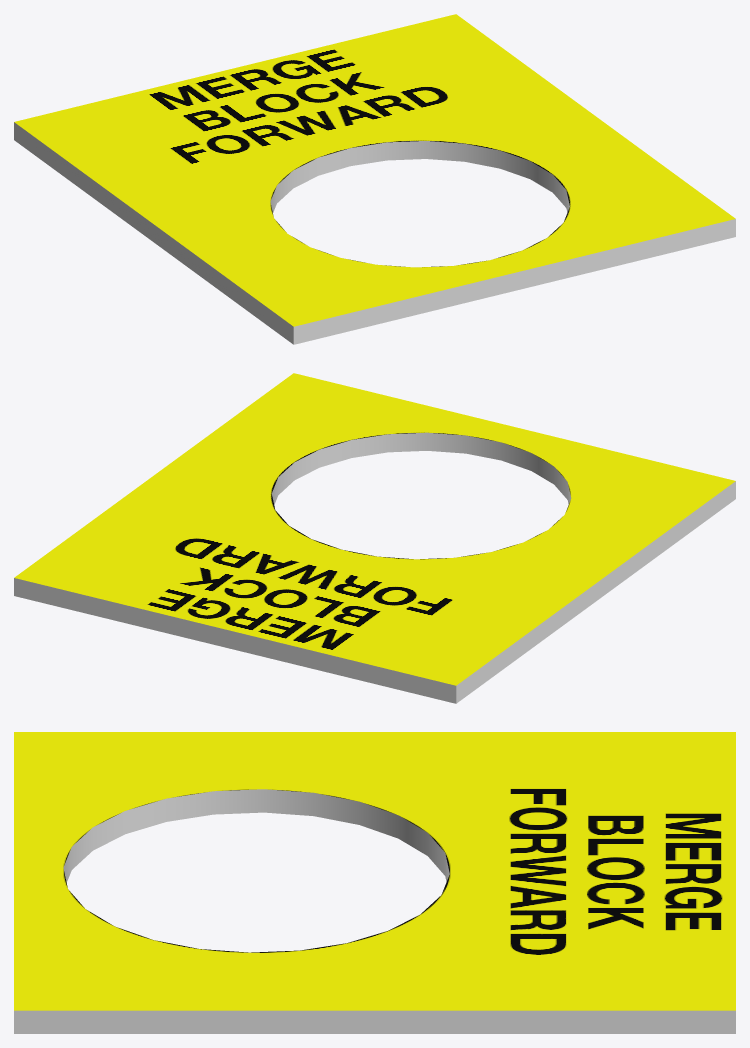
File: mergefwd.dae
3 views of the same model, one above another, from view 1: azimuth 30°, elevation 25°; view 2: azimuth 150°, elevation 25°; view 3: azimuth 270°, elevation 25° (orthographic). The views are drawn at different scales.
Visible parts, largest first — view 1: SketchUp (×3); view 2: SketchUp (×3); view 3: SketchUp (×3).
Part boxes in pixels (x1,y1,x2,y2): SketchUp (×3): [14, 14, 735, 344]; SketchUp (×3): [14, 373, 735, 703]; SketchUp (×3): [14, 732, 735, 1033].
Size of the model in its own units: 2.01 by 2.2 by 0.0787.
2 materials, 1 textured.
